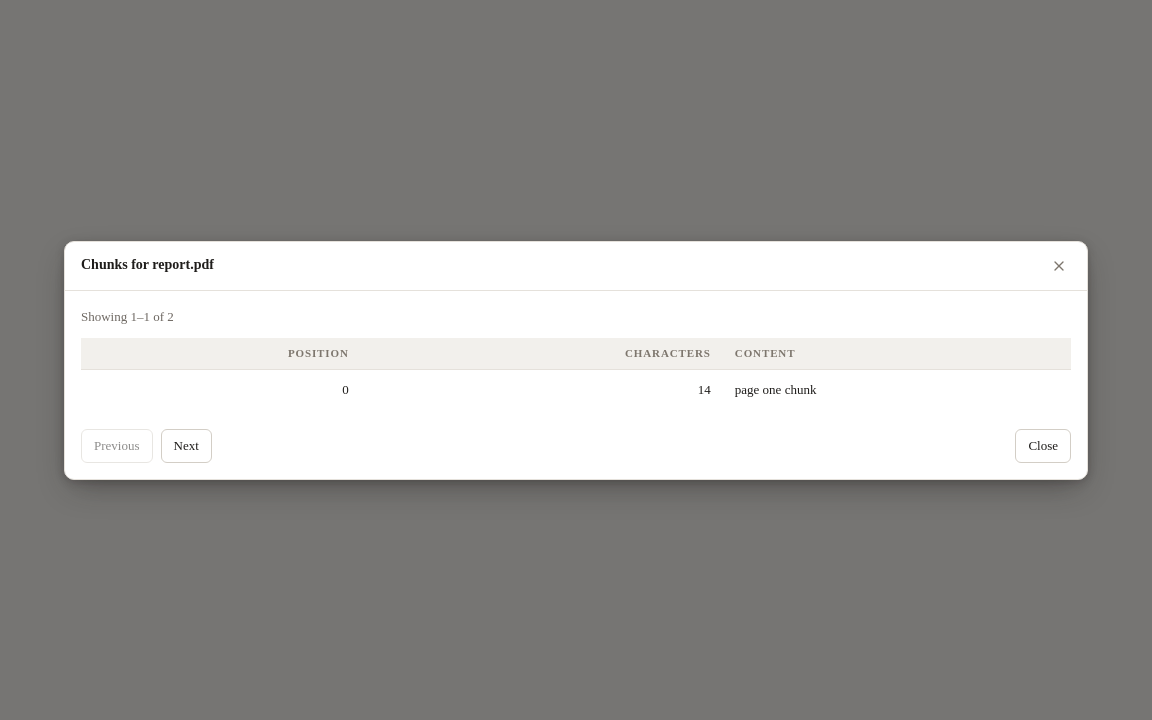
Test: ChunksModal › pages forward and back against limit/offset
Expected: the text "page one chunk" is shown, [723,369,1071,408]
Expected: the button "Previous" is disabled, [81,428,152,462]
What coordinates should you click on to do the following:
click the button "Next"
I would click on:
 (186, 446)
Its box is [160,428,212,462].
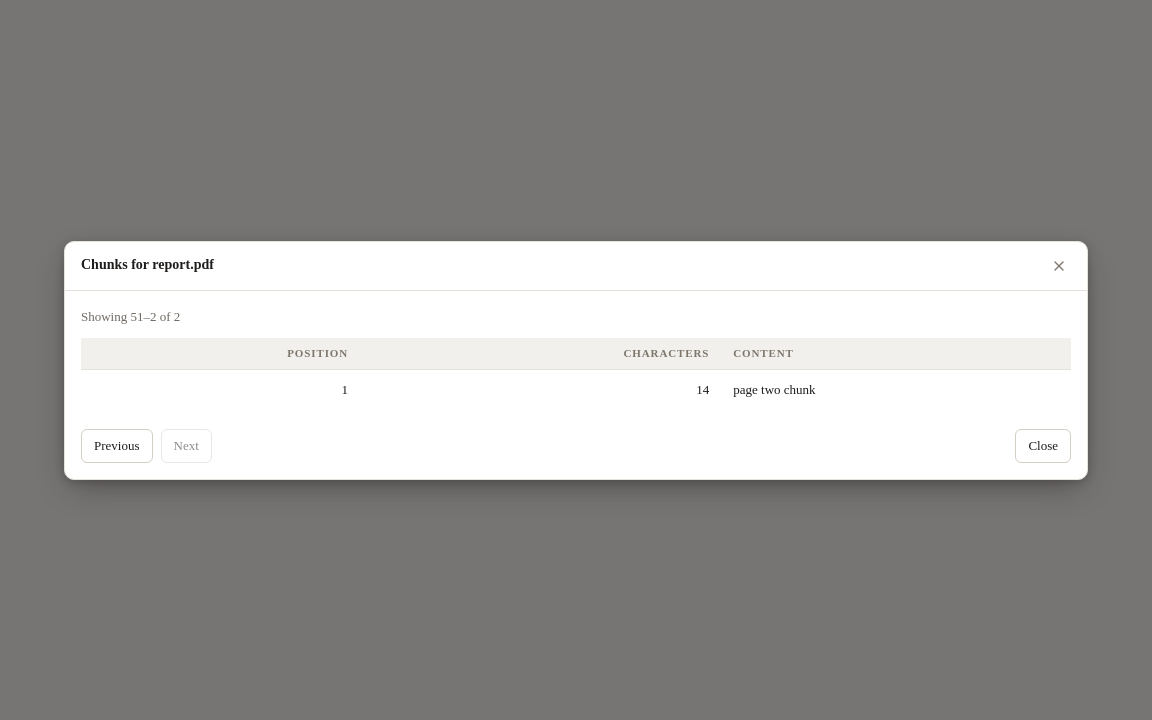
Result: the text "page two chunk" is shown at [721,369,1071,408]
Result: the button "Next" is disabled at [160,428,212,462]
What coordinates should you click on to do the following:
click the button "Previous"
I would click on:
 (117, 446)
Its box is [81,428,152,462].
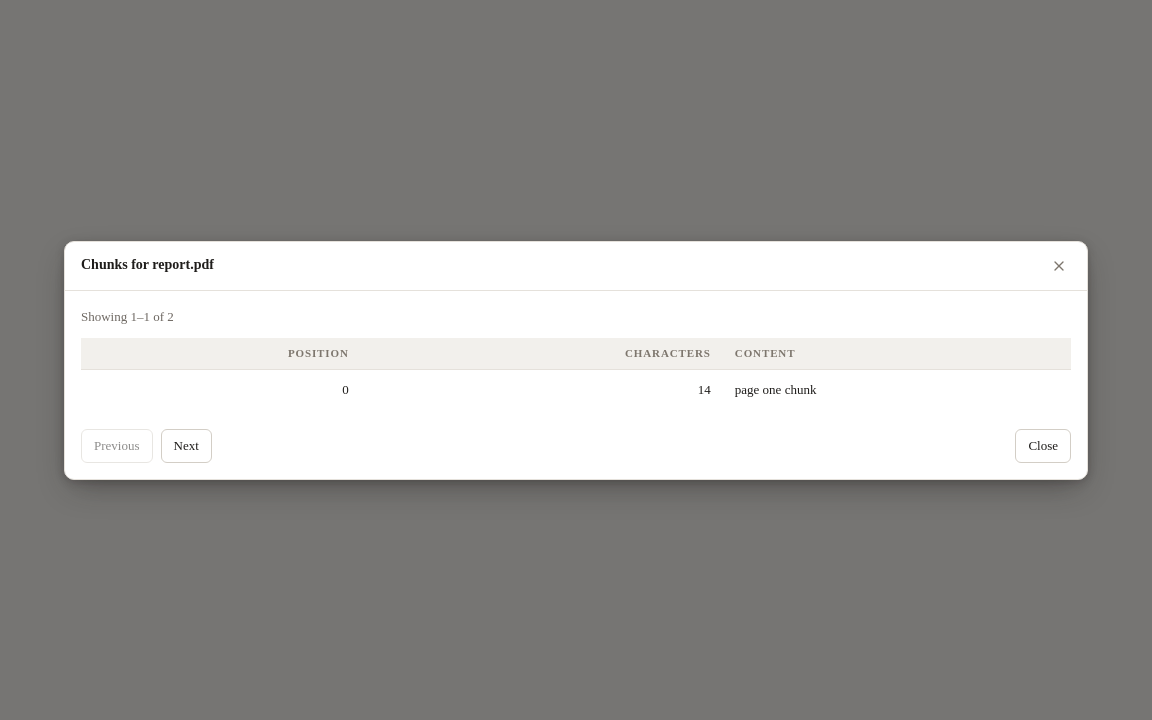
Result: the text "page one chunk" is shown at [723,369,1071,408]
